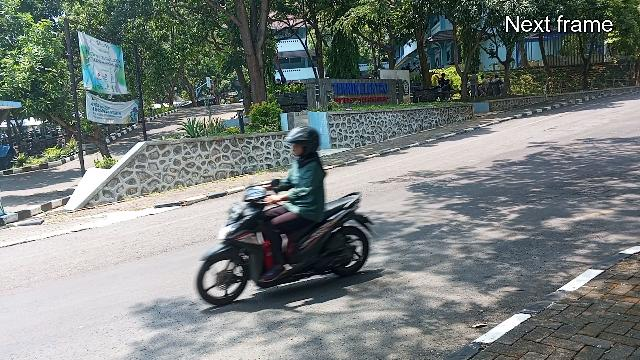helm: (287, 127, 321, 157)
motor: (198, 189, 380, 308)
